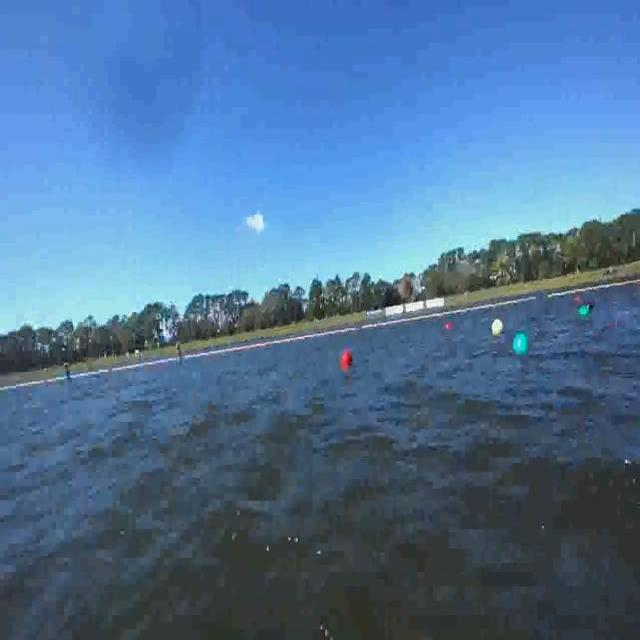green-buoy: (512, 333, 527, 355), (578, 304, 588, 316)
red-buoy: (343, 351, 353, 369)
yellow-buoy: (491, 318, 503, 335)
